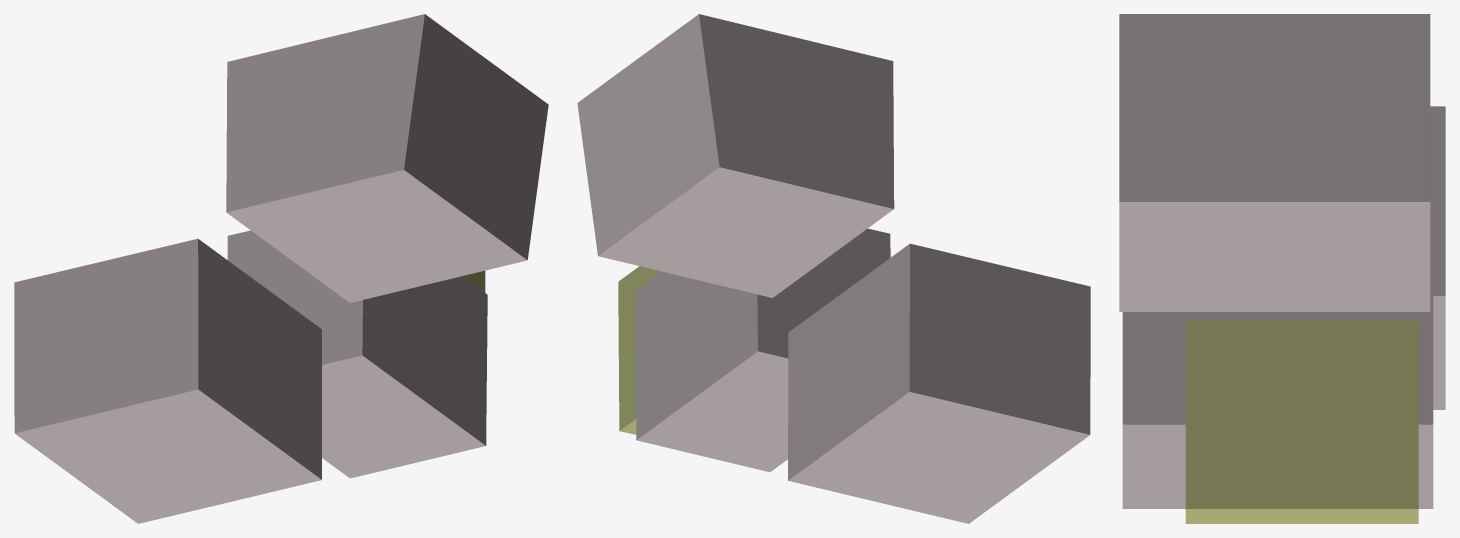
The picture shows the model from 3 angles, left to right: view 1: azimuth 30°, elevation 25°; view 2: azimuth 150°, elevation 25°; view 3: azimuth 270°, elevation 25°; orthographic projection. The views are drawn at different scales.
Parts seen in each view (by area): view 1: 0_2_2_0_0_0_0_2_1_1; view 2: 0_2_2_0_0_0_0_2_1_1; view 3: 0_2_2_0_0_0_0_2_1_1.
Boxes of the visible parts, left/top/right/bottom form: 0_2_2_0_0_0_0_2_1_1: left=14, top=14, right=548, bottom=523; 0_2_2_0_0_0_0_2_1_1: left=577, top=14, right=1090, bottom=523; 0_2_2_0_0_0_0_2_1_1: left=1119, top=14, right=1445, bottom=523.
Bounding box in the file's own units: 22.65 × 17.56 × 12.59.
